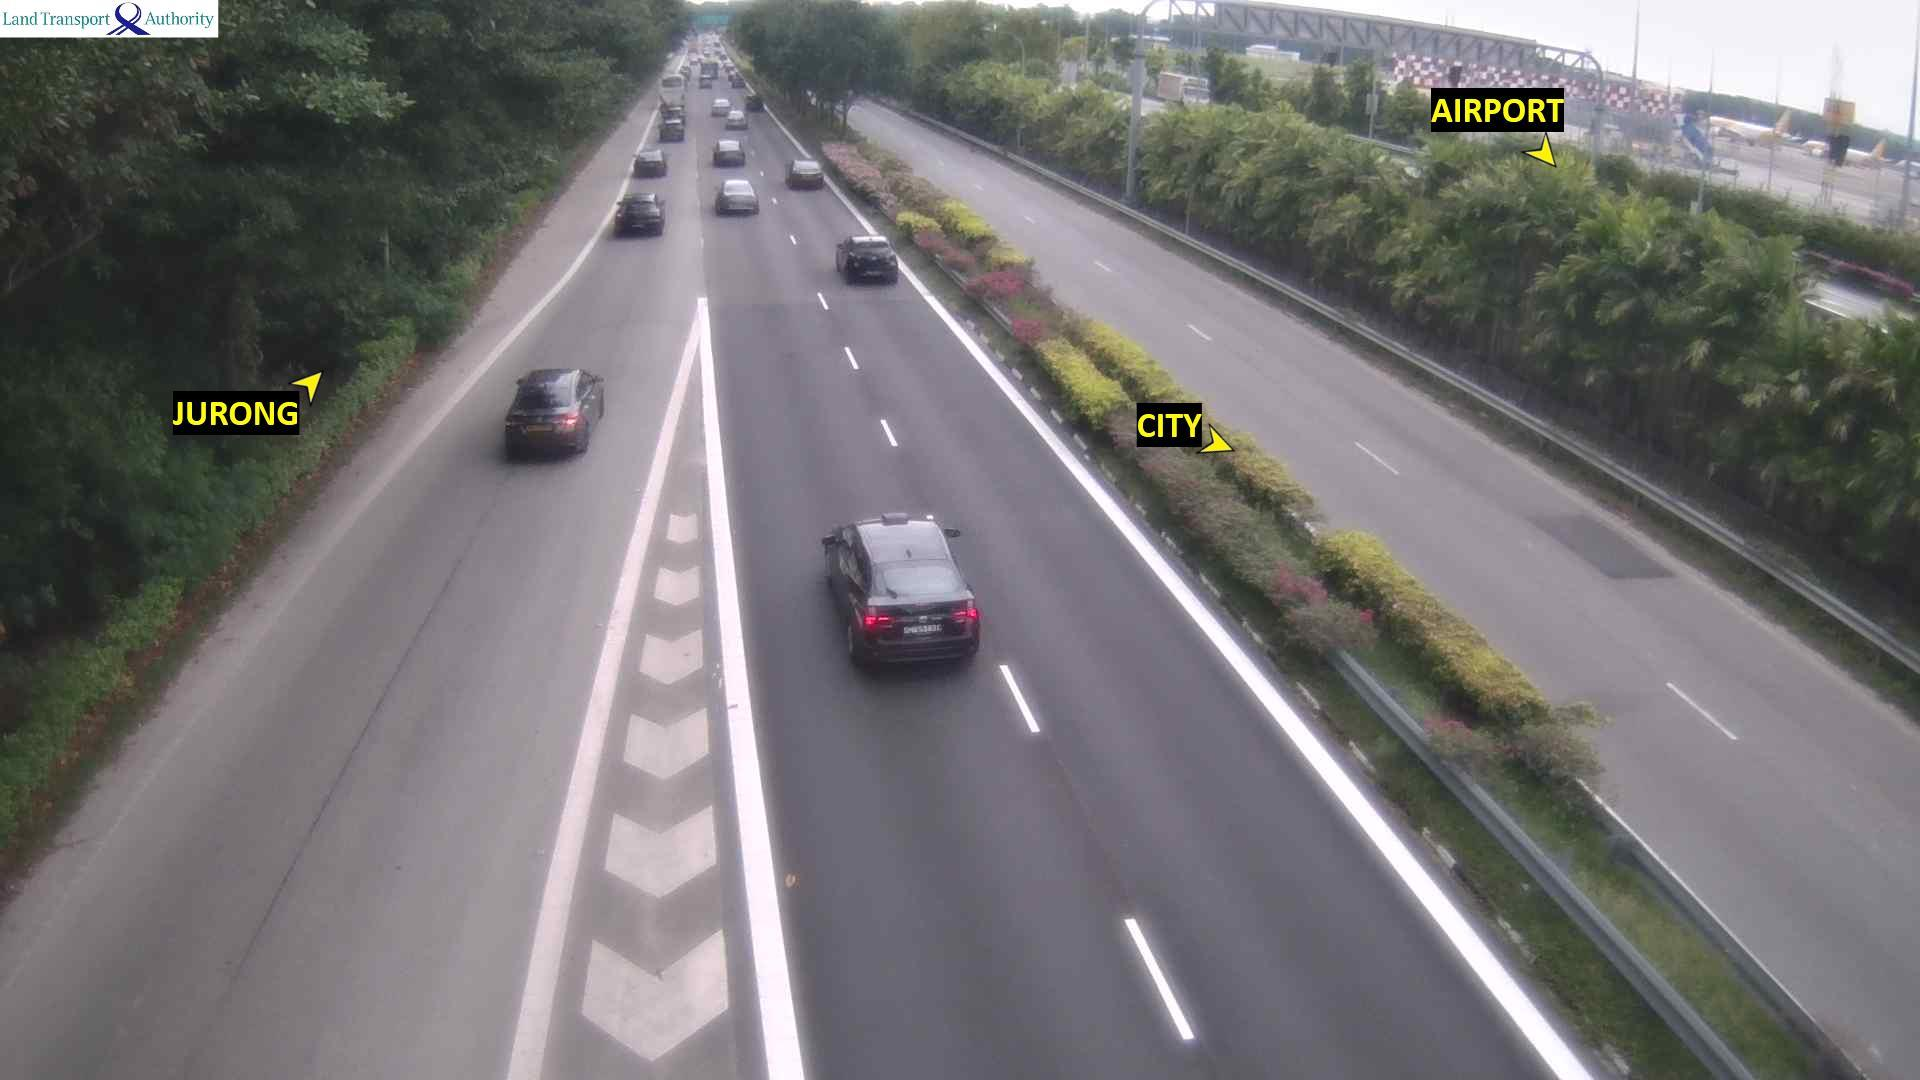cars: (819, 510, 981, 671), (502, 367, 605, 459), (835, 232, 898, 282), (612, 191, 666, 233), (713, 178, 758, 215), (786, 157, 822, 189), (632, 146, 666, 175), (657, 73, 684, 105), (712, 137, 744, 165), (659, 115, 684, 141), (698, 62, 717, 88), (724, 107, 746, 128), (742, 86, 762, 109), (709, 96, 731, 116), (727, 67, 741, 86), (678, 63, 692, 79), (723, 59, 736, 71), (712, 38, 723, 49), (688, 57, 699, 66), (719, 51, 728, 62), (713, 46, 723, 57), (687, 46, 699, 54), (703, 49, 712, 57)
